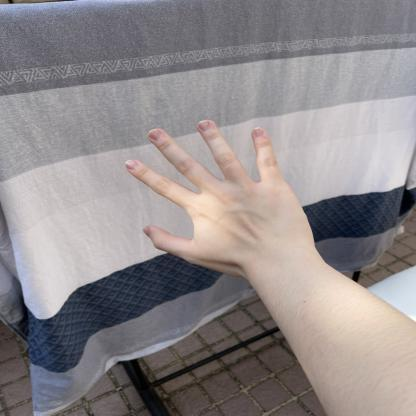bare_hand: (120, 110, 330, 289)
